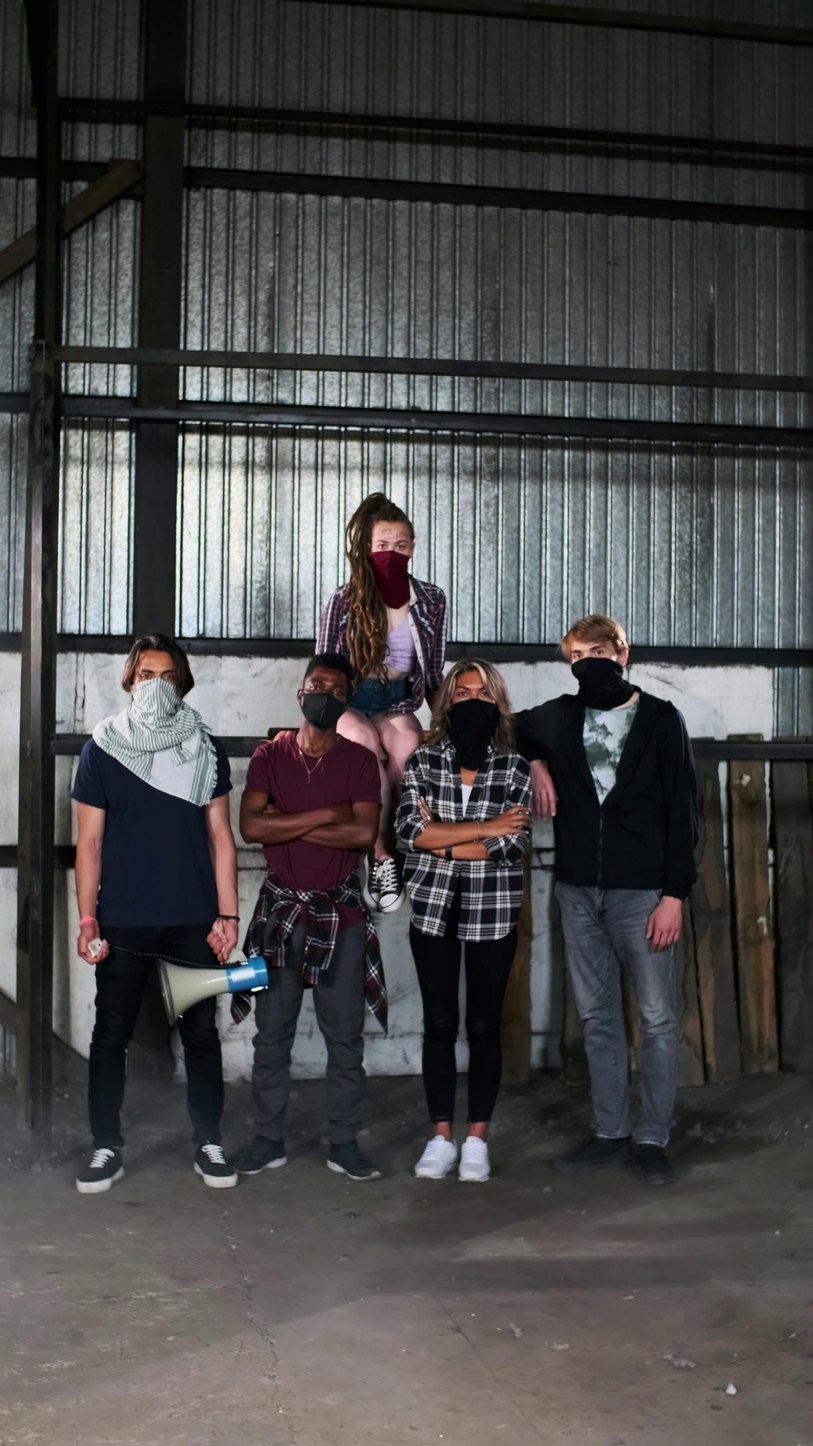mask: (448, 700, 499, 770), (572, 658, 635, 710), (128, 676, 181, 730), (371, 551, 411, 608), (301, 692, 351, 729)
person: (514, 615, 701, 1188), (69, 633, 243, 1197), (229, 652, 389, 1183), (392, 657, 535, 1186), (315, 492, 447, 918)
